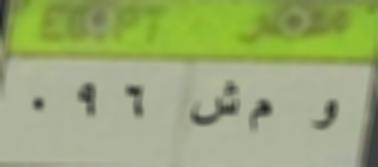0: (28, 88, 52, 116)
6: (119, 77, 155, 124)
9: (72, 78, 100, 125)
meem: (248, 93, 274, 139)
sheen: (190, 81, 242, 137)
waw: (310, 93, 340, 142)
